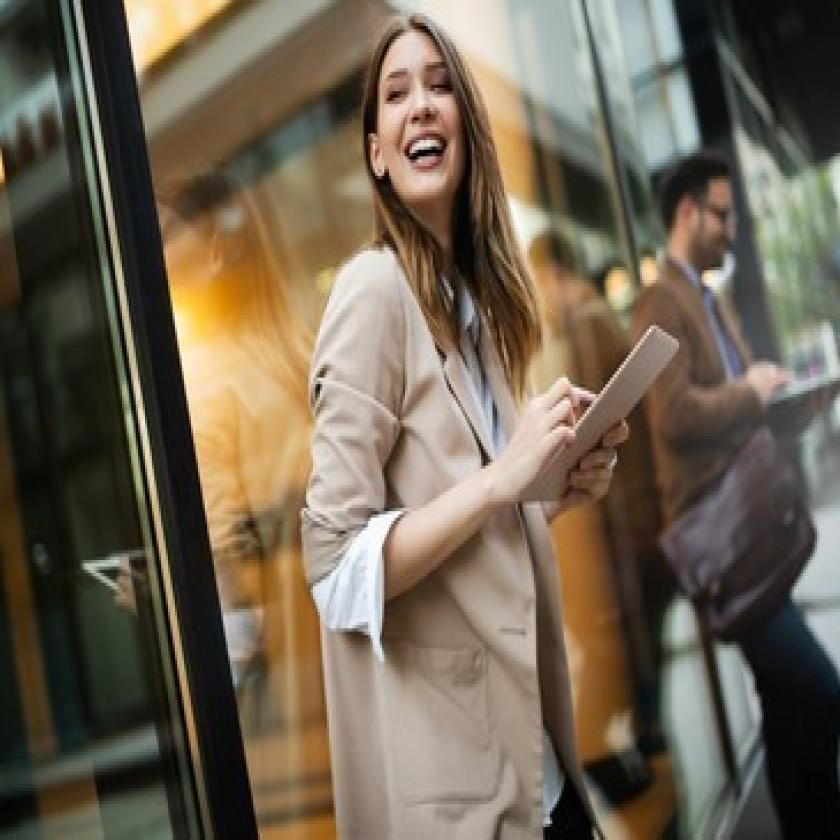Sin_casco: (359, 9, 487, 268), (663, 145, 739, 292)
